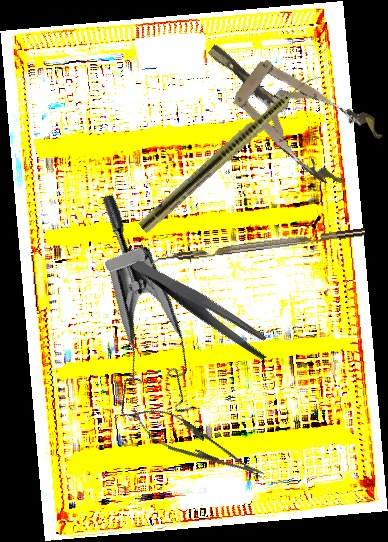Chopper: (145, 228, 367, 273)
Dressing Forceps: (131, 230, 276, 385)
Handpiece: (137, 66, 323, 236)
Needle Holder: (124, 396, 271, 493)
Speculum: (18, 191, 235, 443), (187, 14, 388, 195)
